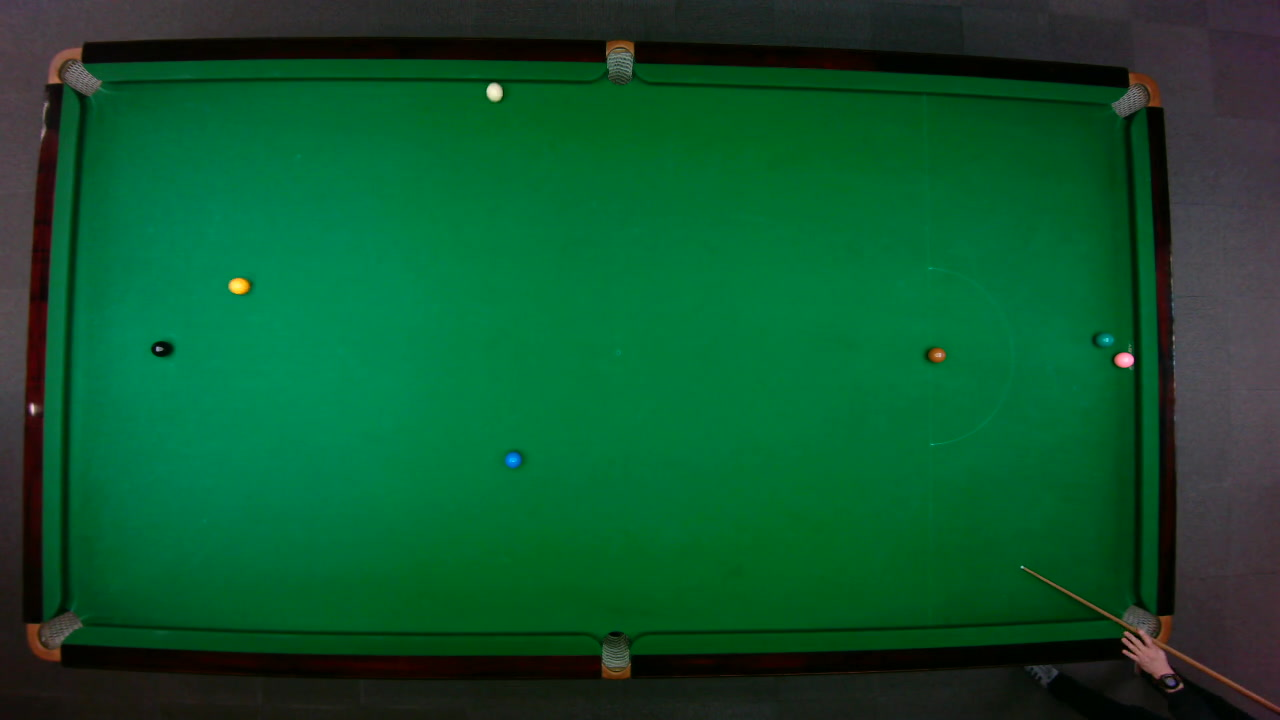bag: (1120, 604, 1178, 660), (25, 609, 83, 662), (45, 46, 102, 96), (1108, 71, 1161, 118), (600, 629, 629, 680), (605, 38, 633, 85)
black: (149, 339, 171, 357)
blue: (504, 450, 523, 468)
brown: (926, 346, 946, 362)
cue: (1020, 563, 1280, 714)
green: (1093, 330, 1114, 347)
pink: (1112, 350, 1135, 368)
white: (484, 81, 504, 101)
yellow: (226, 276, 250, 294)
zone: (927, 265, 1013, 445)
